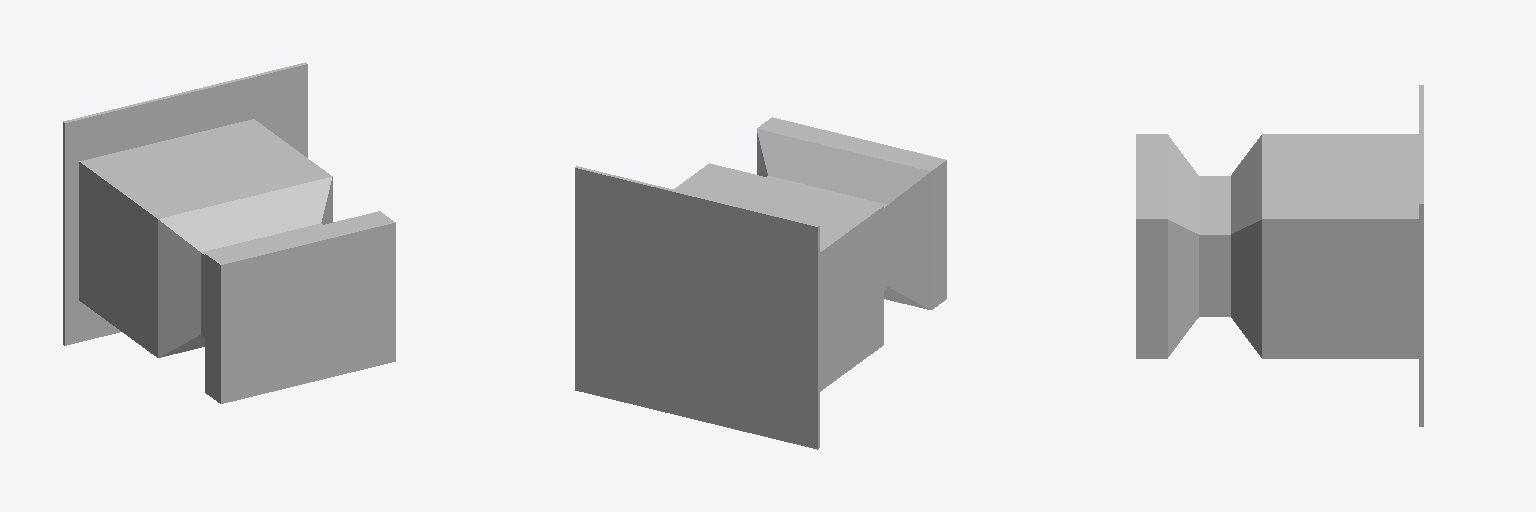
The model's file is house1.obj.
3 renders of one model, left to right at view 1: azimuth 30°, elevation 25°; view 2: azimuth 150°, elevation 25°; view 3: azimuth 270°, elevation 25°, orthographic.
Parts seen in each view (by area): view 1: Box01; view 2: Box01; view 3: Box01.
Boxes of the visible parts, <box> form: Box01: <box>63,62,395,403</box>; Box01: <box>575,117,946,449</box>; Box01: <box>1136,85,1423,426</box>.
Bounding box in the file's own units: 2.73 × 2.39 × 2.8.